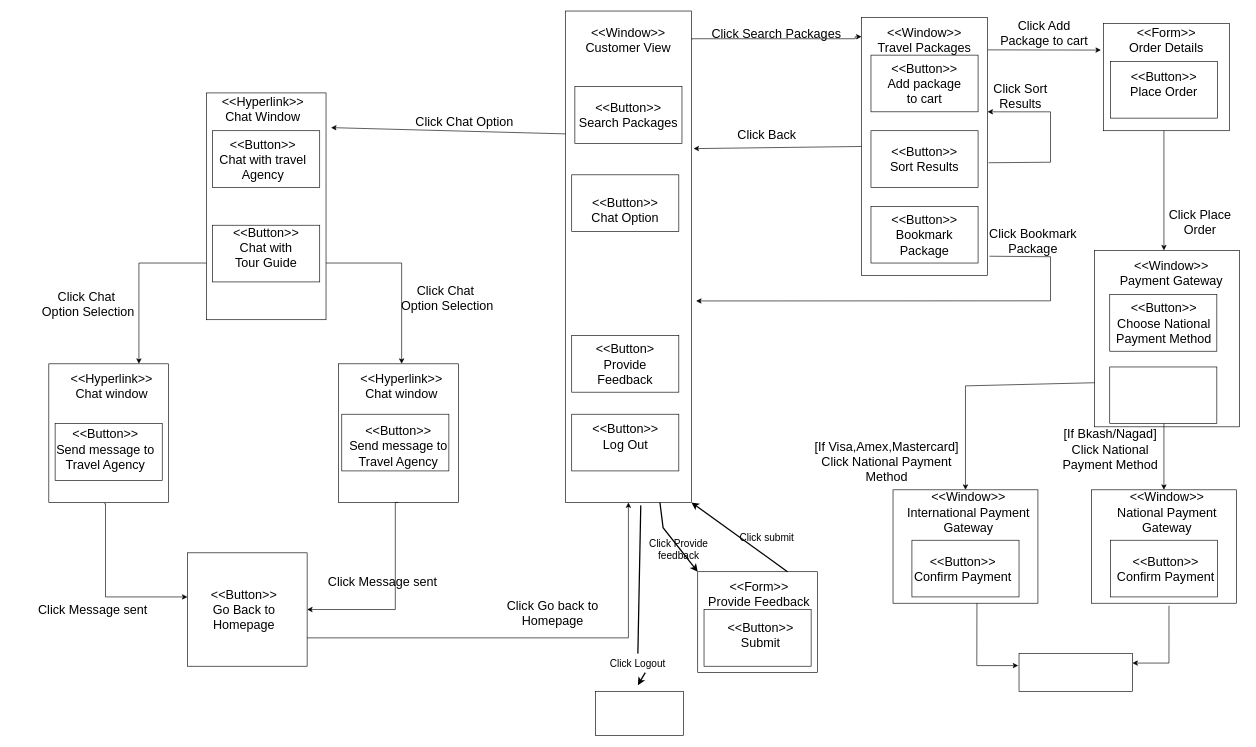
Image size: 1256x747. Some labels were removed from this diagram. The centre of each missing label's shape, as x and y in pixels:
"<<Button>> Choose Abroad Payment Method" goes at point 1163,395.
"<<Hyperlink>> Homepage" goes at point 639,713.
"<<Report>> Payment Receipt" goes at point 1075,672.
